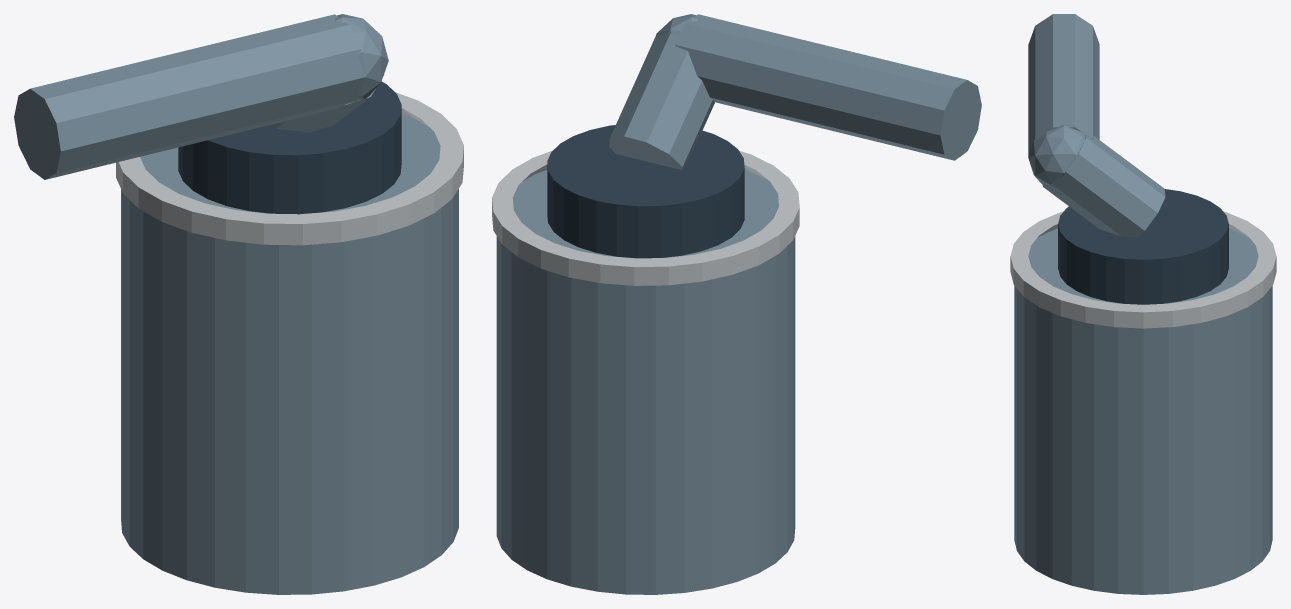
The model's file is 58_L78_TurbomolecularVacuumPump.glb.
3 renders of one model, left to right at view 1: azimuth 30°, elevation 25°; view 2: azimuth 150°, elevation 25°; view 3: azimuth 270°, elevation 25°, orthographic. The views are drawn at different scales.
Parts seen in each view (by area): view 1: TurbomolecularVacuumPump_Node_0000, TurbomolecularVacuumPump_Node_0016, TurbomolecularVacuumPump_Node_0001, TurbomolecularVacuumPump_Node_0002, TurbomolecularVacuumPump_Node_0017, TurbomolecularVacuumPump_Node_0015; view 2: TurbomolecularVacuumPump_Node_0000, TurbomolecularVacuumPump_Node_0016, TurbomolecularVacuumPump_Node_0001, TurbomolecularVacuumPump_Node_0002, TurbomolecularVacuumPump_Node_0015; view 3: TurbomolecularVacuumPump_Node_0000, TurbomolecularVacuumPump_Node_0001, TurbomolecularVacuumPump_Node_0002, TurbomolecularVacuumPump_Node_0016, TurbomolecularVacuumPump_Node_0015, TurbomolecularVacuumPump_Node_0017.
Part boxes in pixels (x1,y1,x2,y2): TurbomolecularVacuumPump_Node_0000: (121, 114, 458, 594); TurbomolecularVacuumPump_Node_0016: (14, 14, 365, 179); TurbomolecularVacuumPump_Node_0001: (178, 81, 401, 214); TurbomolecularVacuumPump_Node_0002: (116, 92, 463, 245); TurbomolecularVacuumPump_Node_0017: (335, 14, 388, 100); TurbomolecularVacuumPump_Node_0015: (269, 74, 384, 132); TurbomolecularVacuumPump_Node_0000: (496, 169, 795, 594); TurbomolecularVacuumPump_Node_0016: (675, 14, 981, 160); TurbomolecularVacuumPump_Node_0001: (547, 125, 744, 258); TurbomolecularVacuumPump_Node_0002: (492, 150, 799, 285); TurbomolecularVacuumPump_Node_0015: (609, 34, 714, 169); TurbomolecularVacuumPump_Node_0000: (1014, 228, 1272, 594); TurbomolecularVacuumPump_Node_0001: (1058, 189, 1228, 304); TurbomolecularVacuumPump_Node_0002: (1010, 211, 1276, 328); TurbomolecularVacuumPump_Node_0016: (1028, 14, 1099, 177); TurbomolecularVacuumPump_Node_0015: (1042, 134, 1165, 237); TurbomolecularVacuumPump_Node_0017: (1028, 124, 1085, 187).
Bounding box in the file's own units: 2.02 × 2.3 × 1.34.
